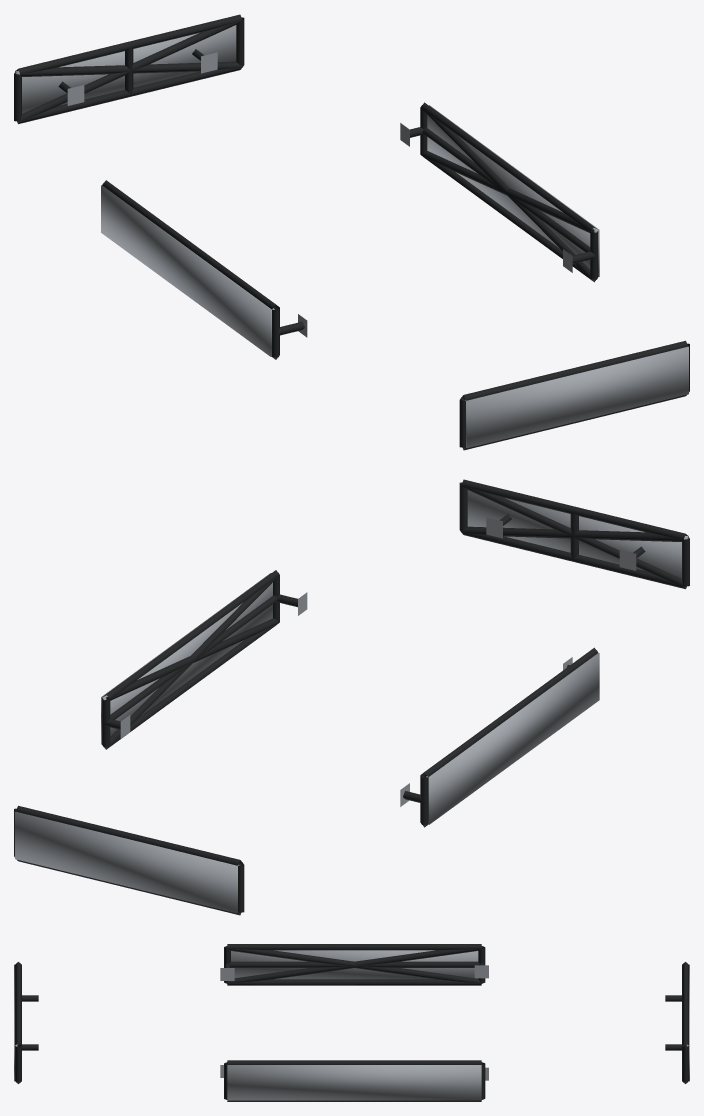
File: sanga_garimpo_protecao.glb
The picture shows the model from 3 angles, top to bottom: view 1: azimuth 30°, elevation 25°; view 2: azimuth 150°, elevation 25°; view 3: azimuth 270°, elevation 25°; orthographic projection. The views are drawn at different scales.
Parts seen in each view (by area): view 1: Protection_front_Level3_Details, Protection_left_Level3_Details, Protection_rear_Level1_Details, Protection_rear_Level3_Details, Protection_right_Level1_Details, Protection_right_Level2_Details, Protection_rear_Level2_Details, Protection_right_Level3_Details, Protection_front_Level1_Details, Protection_left_Level1_Details; view 2: Protection_rear_Level3_Details, Protection_left_Level3_Details, Protection_front_Level1_Details, Protection_front_Level3_Details, Protection_right_Level1_Details, Protection_right_Level2_Details, Protection_front_Level2_Details, Protection_right_Level3_Details, Protection_rear_Level1_Details, Protection_left_Level1_Details; view 3: Protection_right_Level3_Details, Protection_left_Level2_Details, Protection_left_Level1_Details, Protection_left_Level3_Details, Protection_right_Level1_Details, Protection_rear_Level1_Details, Protection_front_Level1_Details.
Part boxes in pixels (x1,y1,x2,y2): Protection_front_Level3_Details: (464, 346, 688, 448); Protection_left_Level3_Details: (101, 185, 274, 356); Protection_rear_Level1_Details: (14, 14, 244, 124); Protection_rear_Level3_Details: (15, 25, 236, 113); Protection_right_Level1_Details: (400, 102, 598, 282); Protection_right_Level2_Details: (420, 108, 597, 281); Protection_rear_Level2_Details: (16, 20, 242, 123); Protection_right_Level3_Details: (427, 105, 599, 276); Protection_front_Level1_Details: (459, 340, 689, 450); Protection_left_Level1_Details: (102, 180, 307, 359); Protection_rear_Level3_Details: (15, 811, 239, 913); Protection_left_Level3_Details: (426, 653, 599, 824); Protection_front_Level1_Details: (459, 479, 689, 589); Protection_front_Level3_Details: (467, 490, 688, 578); Protection_right_Level1_Details: (102, 570, 307, 749); Protection_right_Level2_Details: (103, 576, 279, 749); Protection_front_Level2_Details: (461, 485, 687, 588); Protection_right_Level3_Details: (101, 573, 272, 744); Protection_rear_Level1_Details: (14, 805, 244, 915); Protection_left_Level1_Details: (400, 647, 598, 827); Protection_right_Level3_Details: (227, 1065, 481, 1100); Protection_left_Level2_Details: (227, 946, 481, 983); Protection_left_Level1_Details: (220, 944, 488, 985); Protection_left_Level3_Details: (231, 950, 478, 979); Protection_right_Level1_Details: (220, 1060, 488, 1101); Protection_rear_Level1_Details: (665, 962, 688, 1083); Protection_front_Level1_Details: (15, 962, 38, 1083).
Bounding box in the file's own units: 2.19 × 0.354 × 5.21.
Materials: 1 (1 with a texture image).
